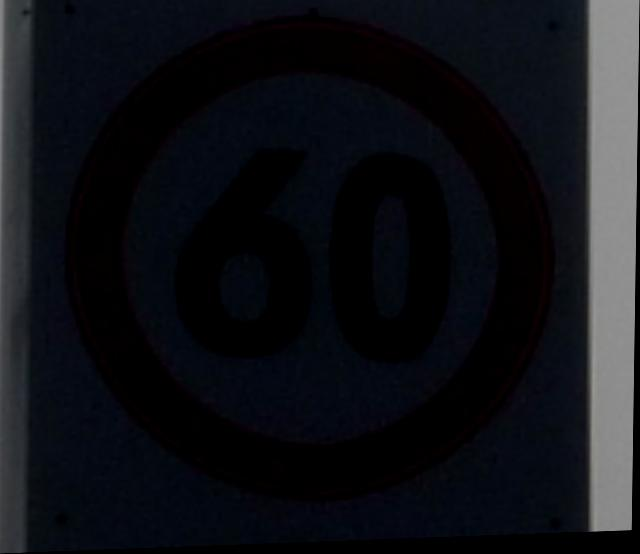limit60: (53, 4, 567, 520)
